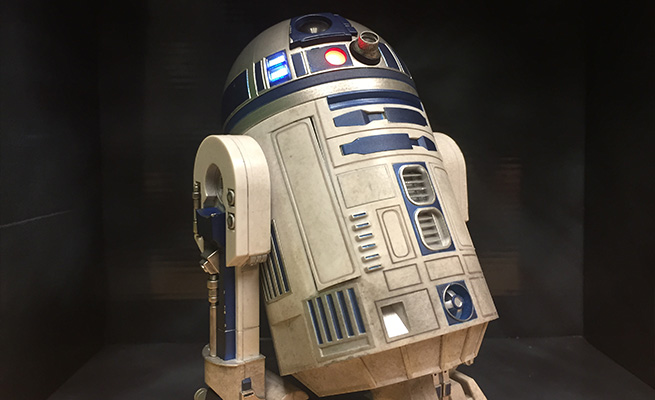r2d2: (192, 14, 499, 400)
